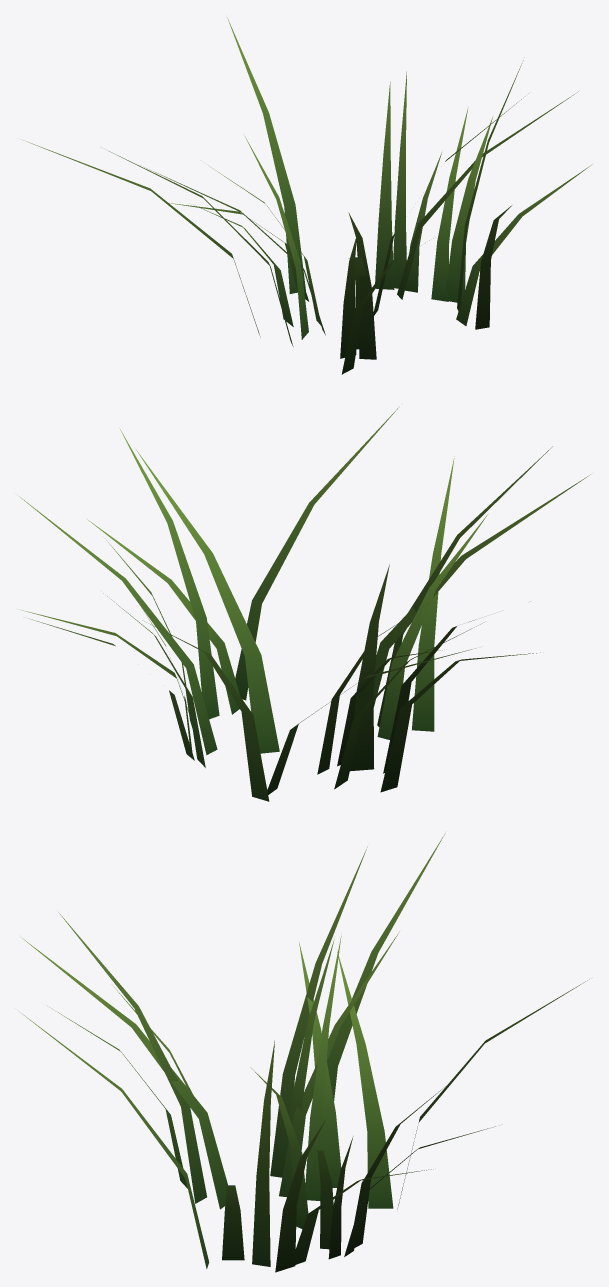
The model's file is grass_b.glb.
3 views of the same model, one above another, from view 1: azimuth 30°, elevation 25°; view 2: azimuth 150°, elevation 25°; view 3: azimuth 270°, elevation 25° (orthographic). The views are drawn at different scales.
Visible parts, largest first — view 1: grass_b; view 2: grass_b; view 3: grass_b.
Part boxes in pixels (<box>): grass_b: <box>23,17,592,374</box>; grass_b: <box>19,406,590,801</box>; grass_b: <box>20,833,589,1272</box>.
Bounding box in the file's own units: 0.8946 × 0.3939 × 0.7748.
